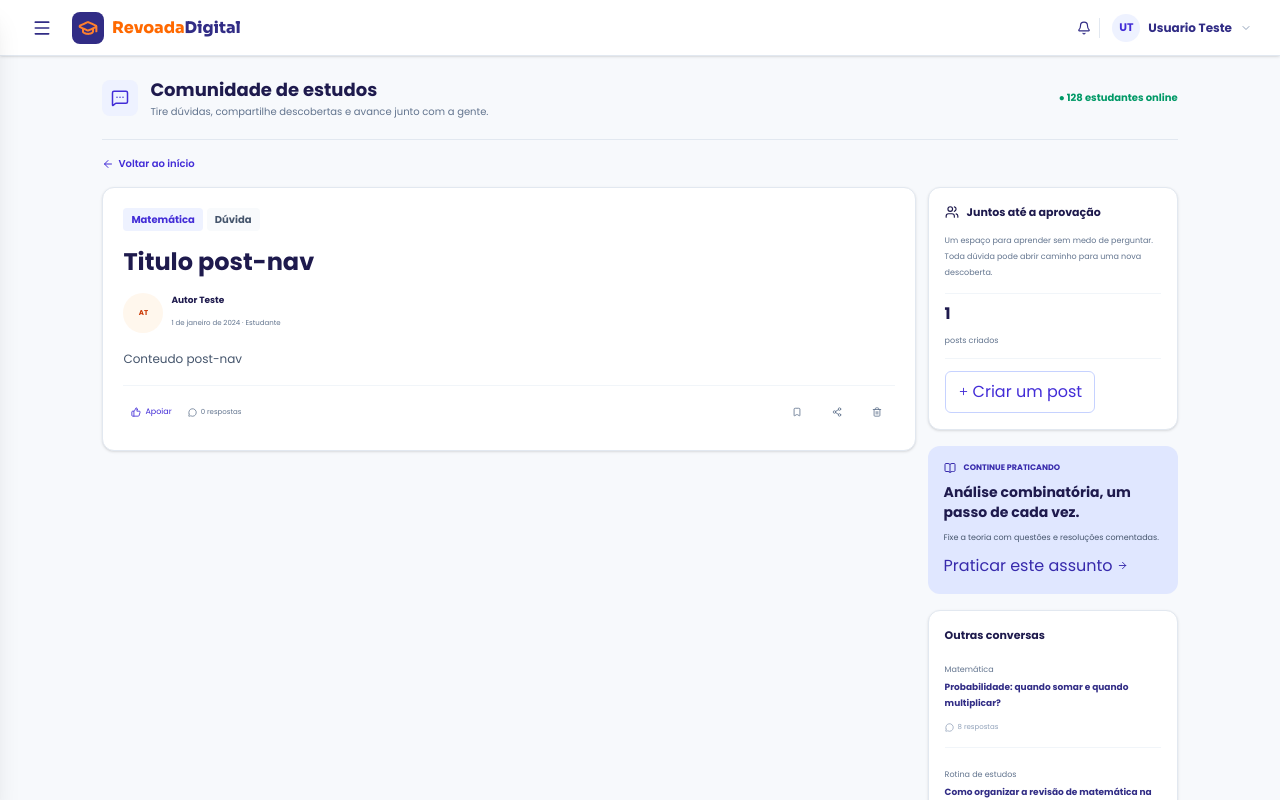
Test: Comunidade - exclusao e navegacao na lista › clicar no controle de exclusao nao dispara a navegacao do card
Click the button named "Excluir post" at (877, 412), box [859,394,895,430]
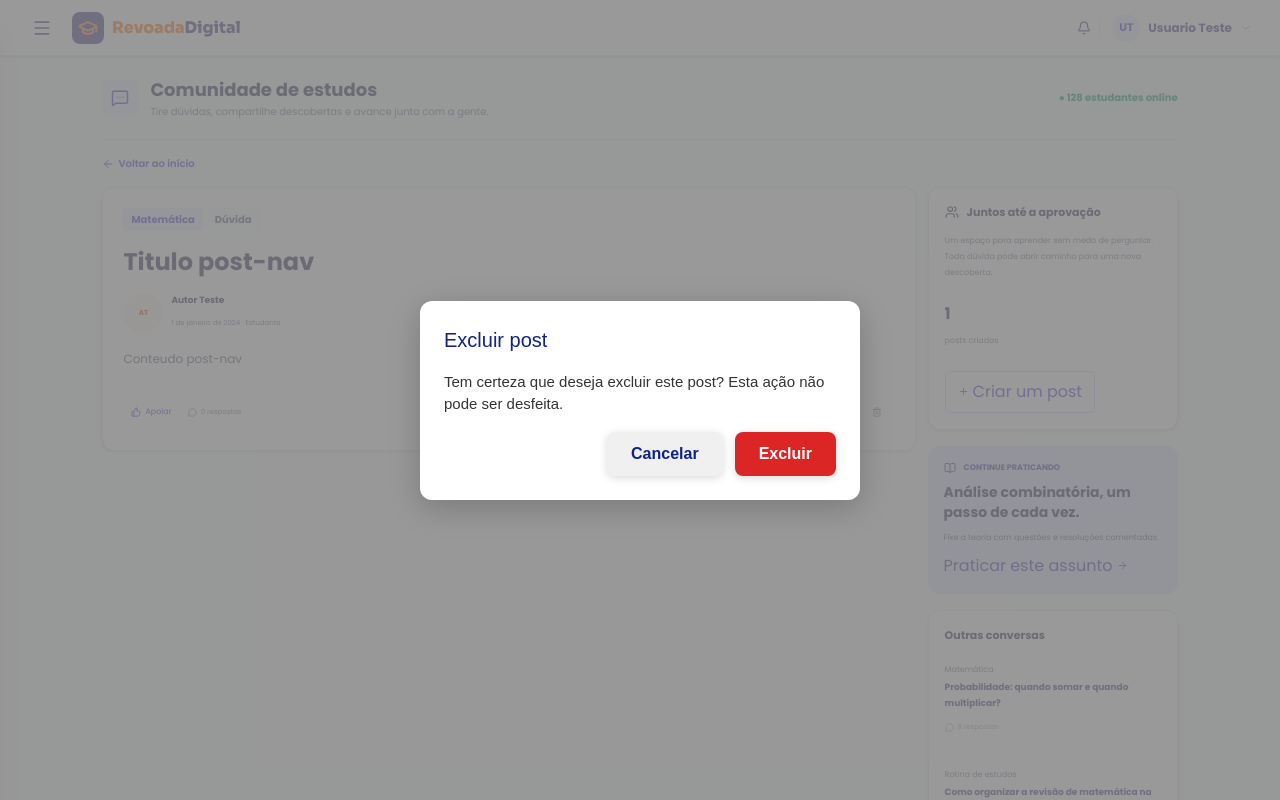
Expected: the button "Excluir" is shown, [735,432,836,476]
